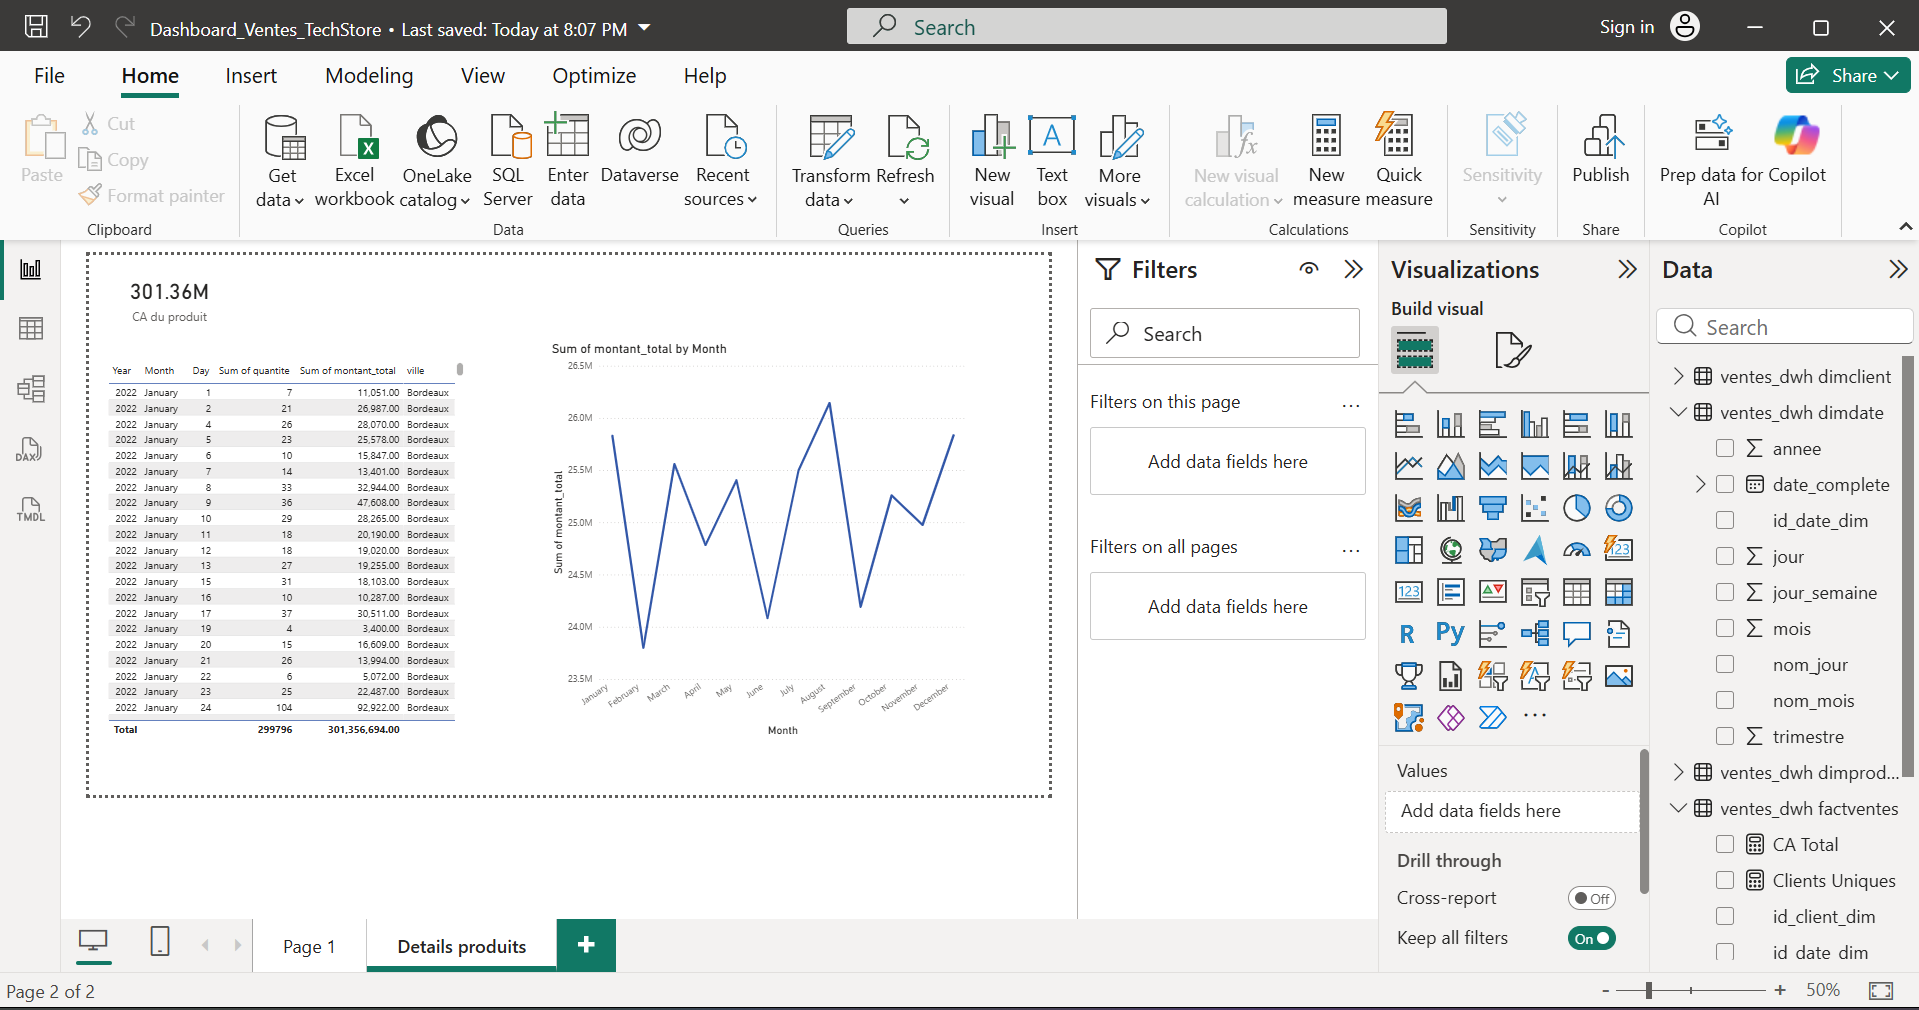

Layout of this report page (visuals, bound fields, positions):
{"tool":"powerbi","page":{"name":"Details produits","canvas":[1280,720],"ordinal":1},"visuals":[{"type":"actionButton","box":[0,0,100,40],"z":0},{"type":"card","fields":{"Values":["Sum(ventes_dwh factventes.montant_total)"]},"box":[0,0,214,114],"z":1000},{"type":"tableEx","fields":{"Values":["ventes_dwh dimdate.date_complete.Variation.Date Hierarchy.Year","ventes_dwh dimdate.date_complete.Variation.Date Hierarchy.Month","ventes_dwh dimdate.date_complete.Variation.Date Hierarchy.Day","Sum(ventes_dwh factventes.quantite)","Sum(ventes_dwh factventes.montant_total)","ventes_dwh dimclient.ville"]},"box":[20,138,484,508],"z":2000},{"type":"lineChart","fields":{"Category":["ventes_dwh dimdate.date_complete.Variation.Date Hierarchy.Month"],"Y":["Sum(ventes_dwh factventes.montant_total)"]},"box":[612,114,562,532],"z":3000}]}

Visuals, with their boxes on the page's 1280x720 design canvas (x1, y1, x2, y2). These are canvas units, not pixel positions in the 1919x1010 screenshot, which may show the page scaled, cropped or inside an application window:
actionButton: [x1=0, y1=0, x2=100, y2=40]
card - Sum(ventes_dwh factventes.montant_total): [x1=0, y1=0, x2=214, y2=114]
tableEx - ventes_dwh dimdate.date_complete.Variation.Date Hierarchy.Year x ventes_dwh dimdate.date_complete.Variation.Date Hierarchy.Month: [x1=20, y1=138, x2=504, y2=646]
lineChart - ventes_dwh dimdate.date_complete.Variation.Date Hierarchy.Month x Sum(ventes_dwh factventes.montant_total): [x1=612, y1=114, x2=1174, y2=646]
